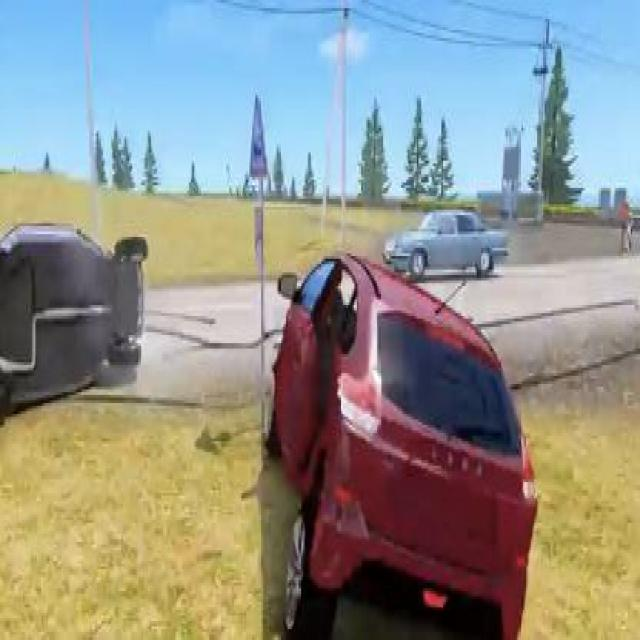accident: (0, 185, 152, 427)
